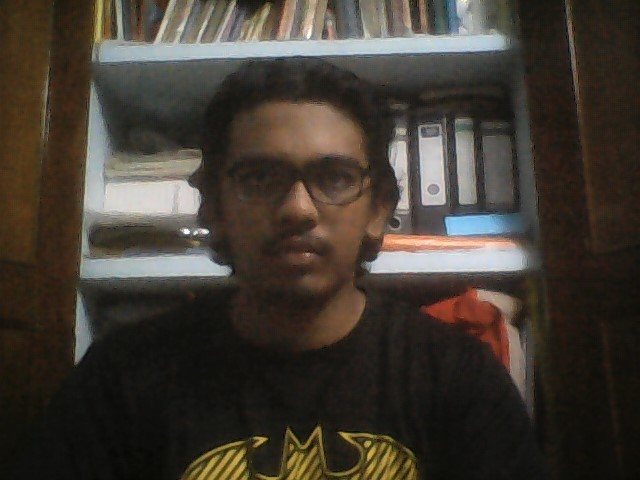person: (43, 54, 512, 467)
